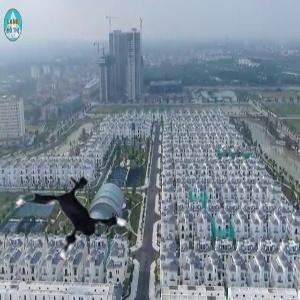drone: (5, 157, 138, 290)
